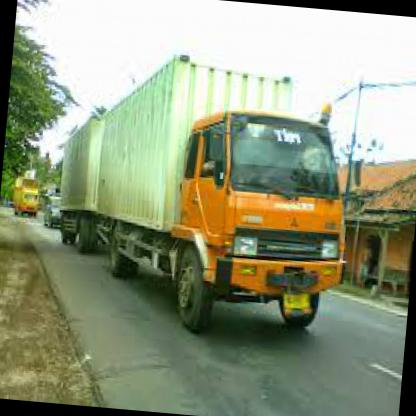truck: (165, 102, 357, 347)
